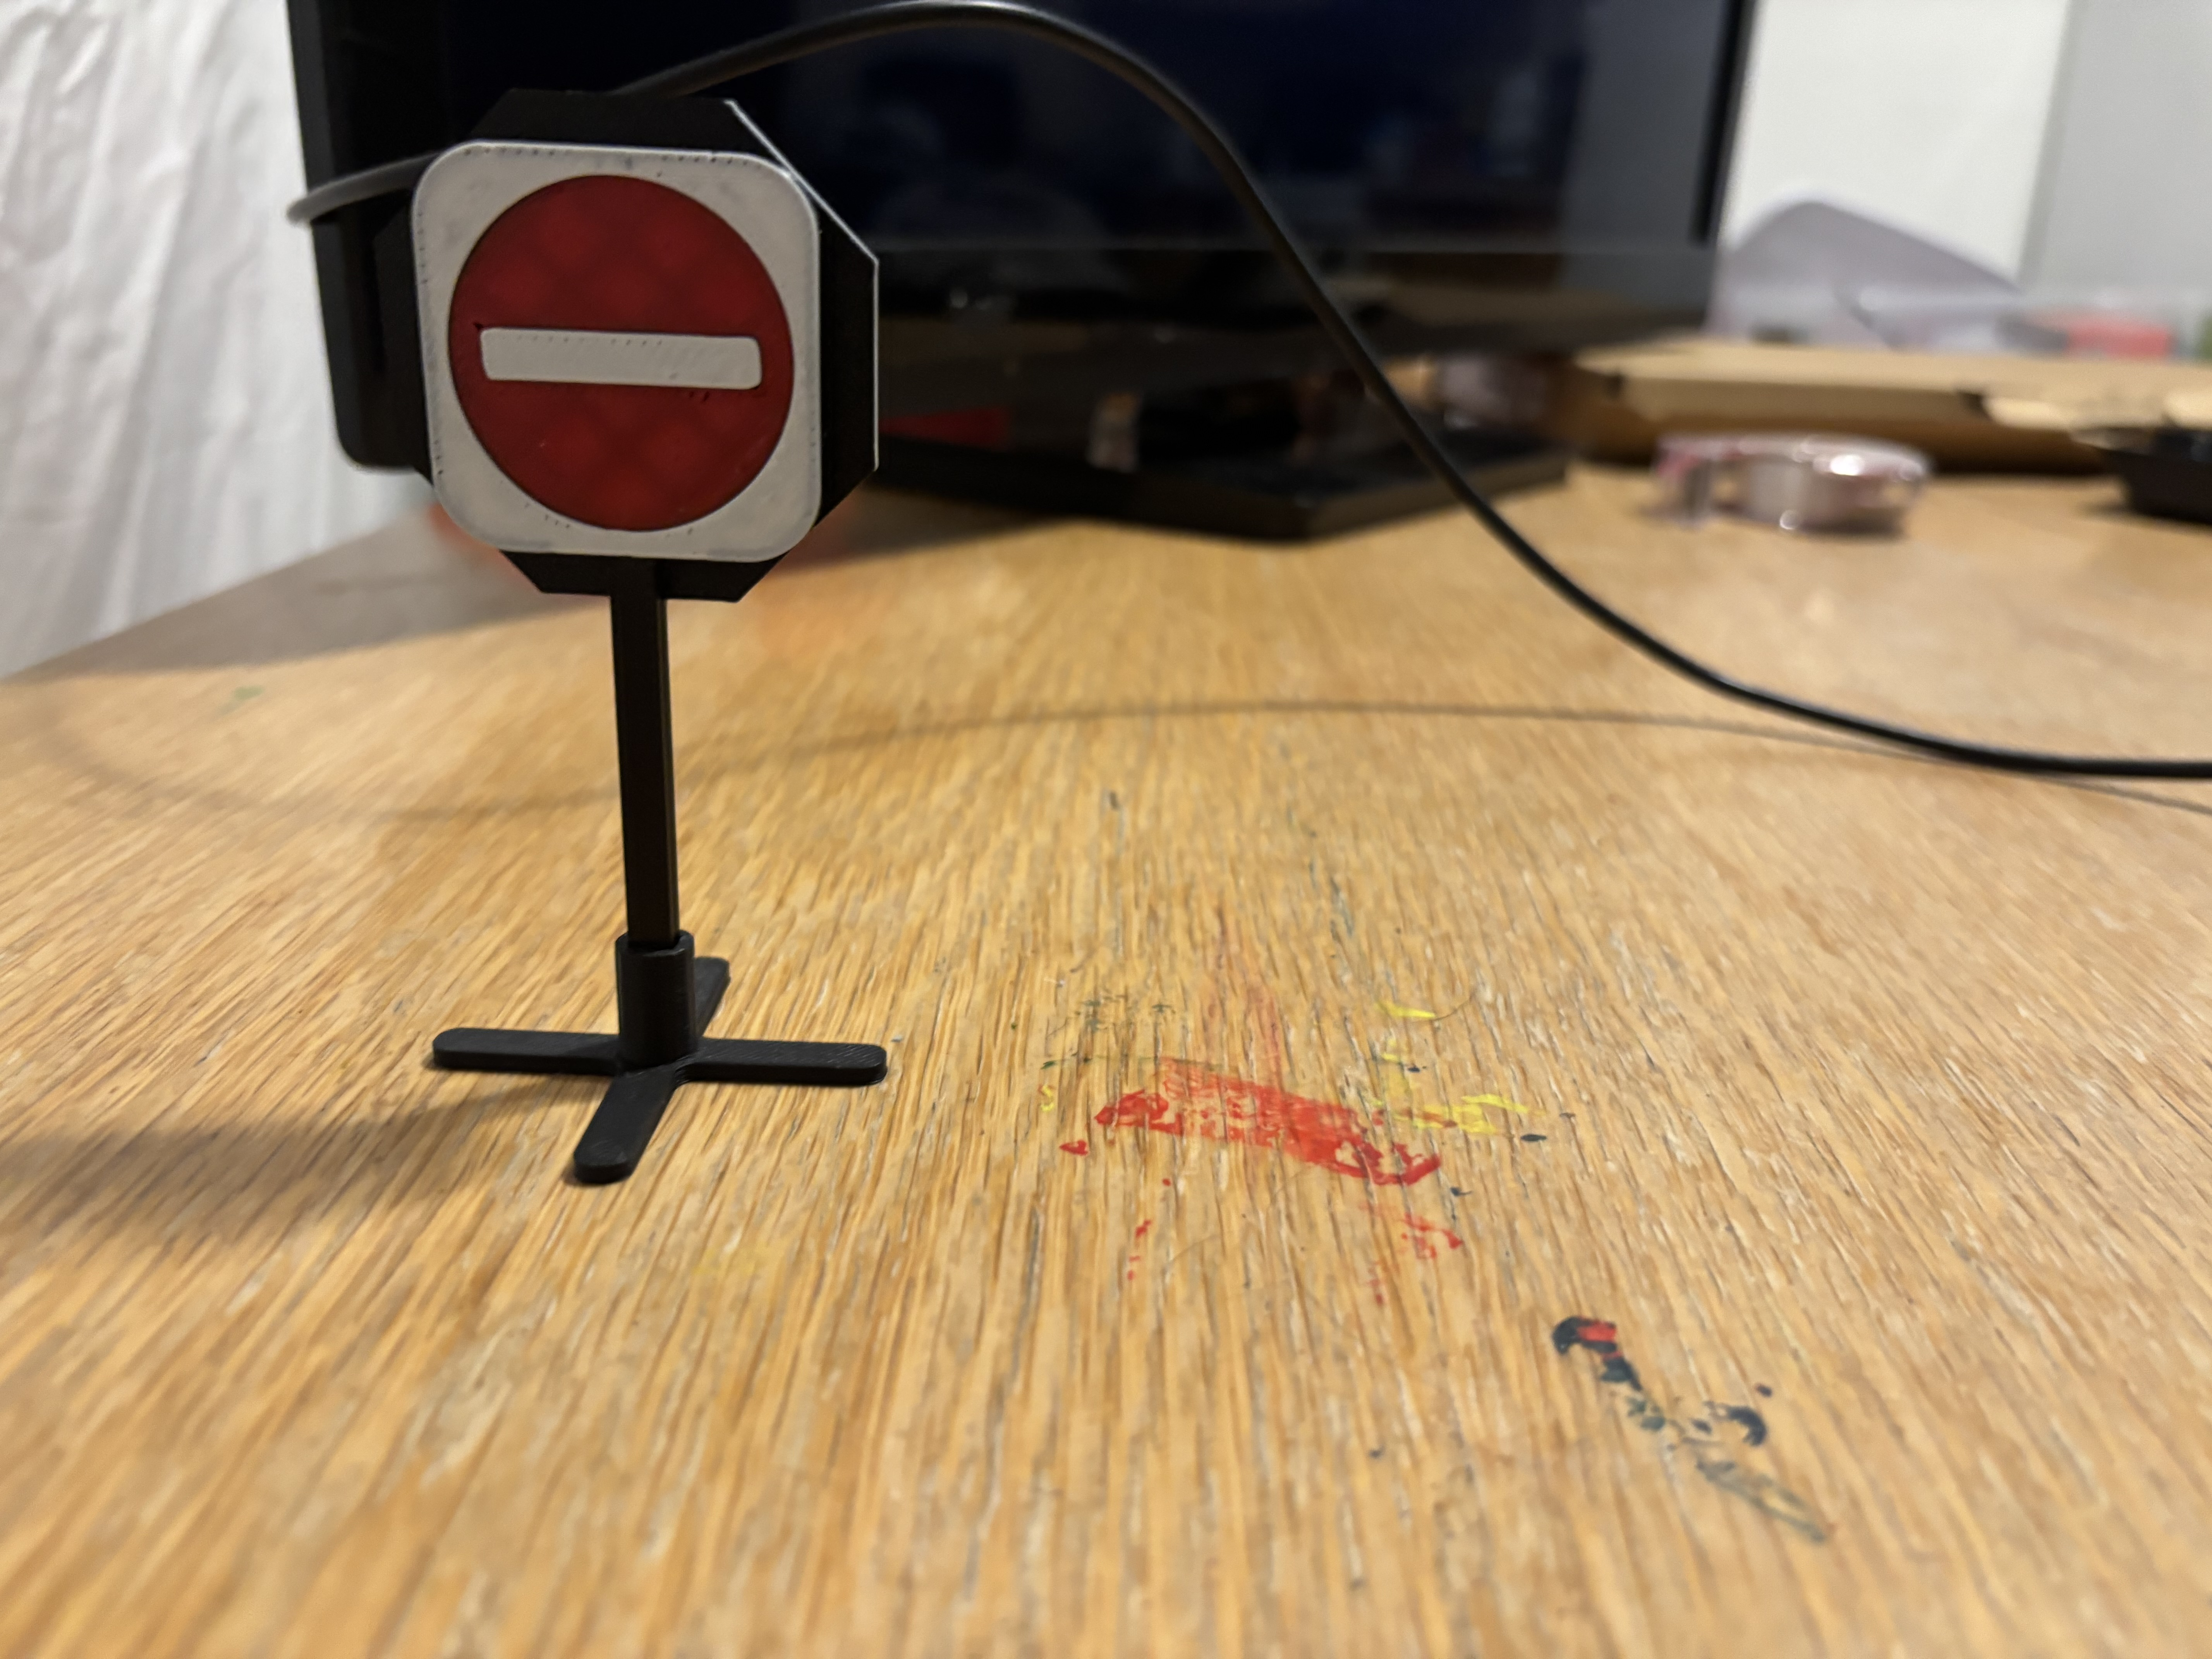sign_noentry: (404, 127, 840, 594)
